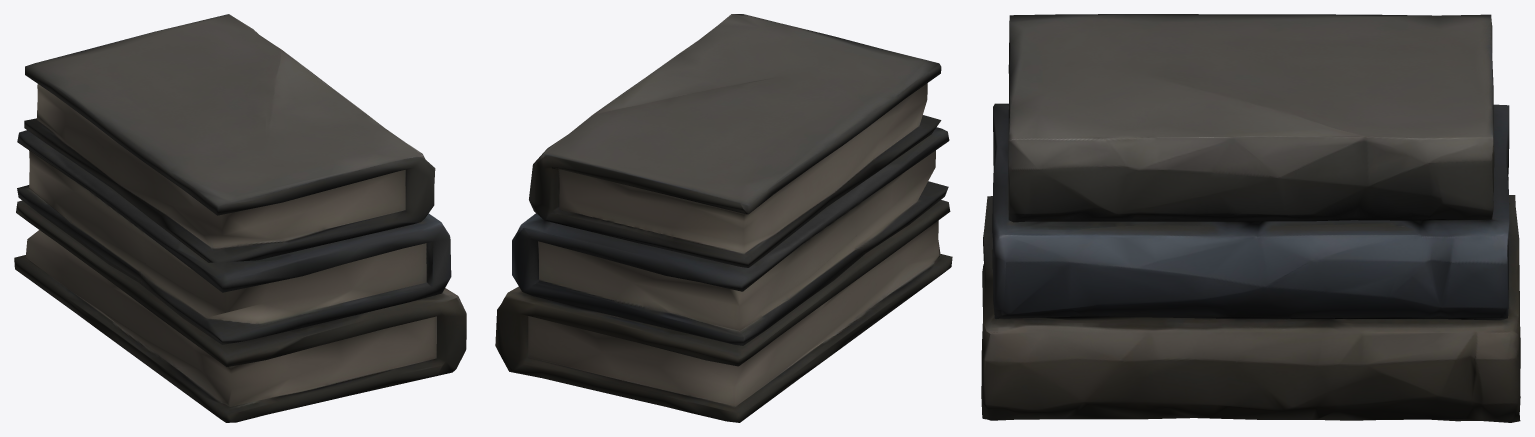
Rendered from low-poly+books+3d+model.glb.
3 renders of one model, left to right at view 1: azimuth 30°, elevation 25°; view 2: azimuth 150°, elevation 25°; view 3: azimuth 270°, elevation 25°, orthographic. The views are drawn at different scales.
Visible parts, largest first — view 1: tripo_node_9aa0b6a8-abe3-4206-9db9-8cb22439e47e; view 2: tripo_node_9aa0b6a8-abe3-4206-9db9-8cb22439e47e; view 3: tripo_node_9aa0b6a8-abe3-4206-9db9-8cb22439e47e.
Part boxes in pixels (x1,y1,x2,y2): tripo_node_9aa0b6a8-abe3-4206-9db9-8cb22439e47e: [14, 14, 466, 422]; tripo_node_9aa0b6a8-abe3-4206-9db9-8cb22439e47e: [495, 14, 952, 422]; tripo_node_9aa0b6a8-abe3-4206-9db9-8cb22439e47e: [981, 14, 1520, 422].
Size of the model in its own units: 0.657 by 0.562 by 1.
Materials: 1 (1 with a texture image).
